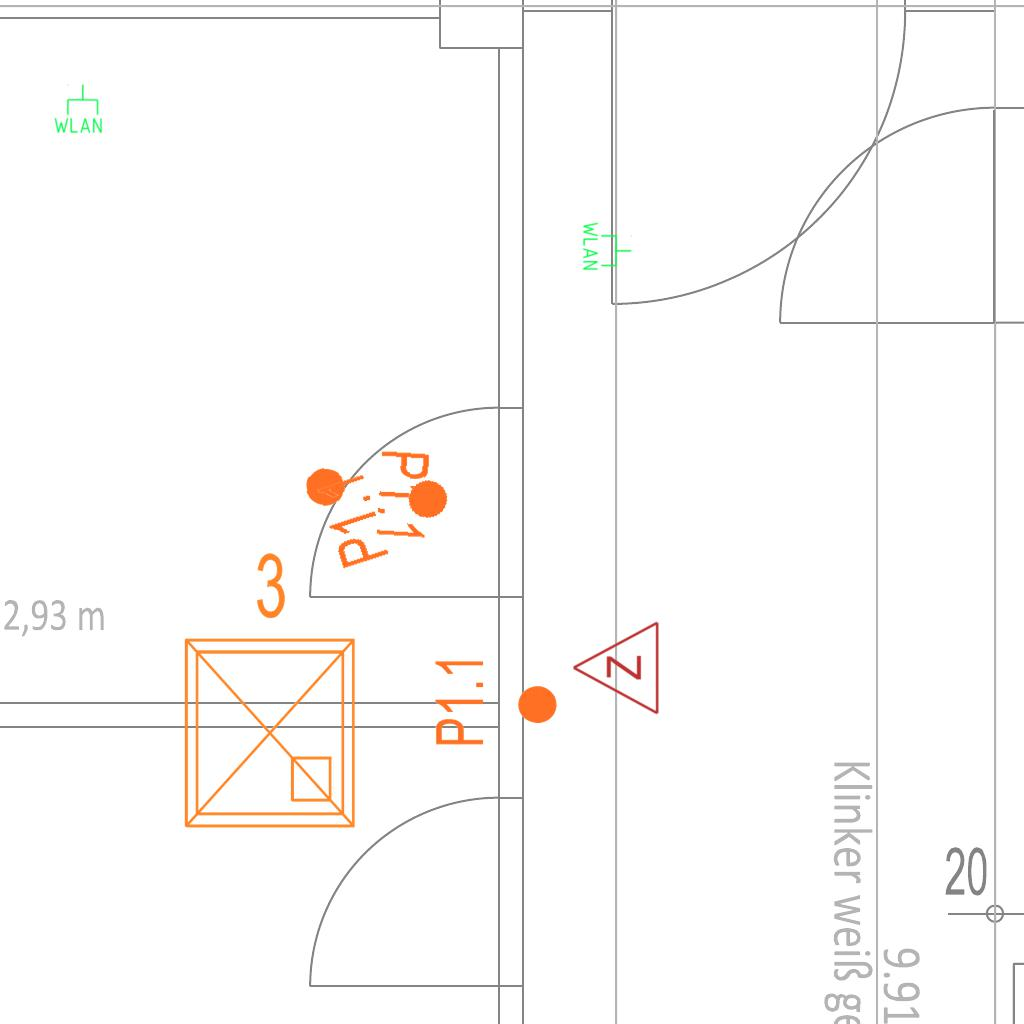Downlight_LED_Einbauleuchten_Flur: (312, 444, 463, 574), (299, 442, 434, 544), (432, 655, 560, 748)
Einbaudownlights_LED_Konferenzraeume: (162, 542, 370, 842)
WLAN: (581, 220, 633, 272), (52, 83, 104, 135)
Zimmersignalleuchte: (566, 620, 666, 718)
